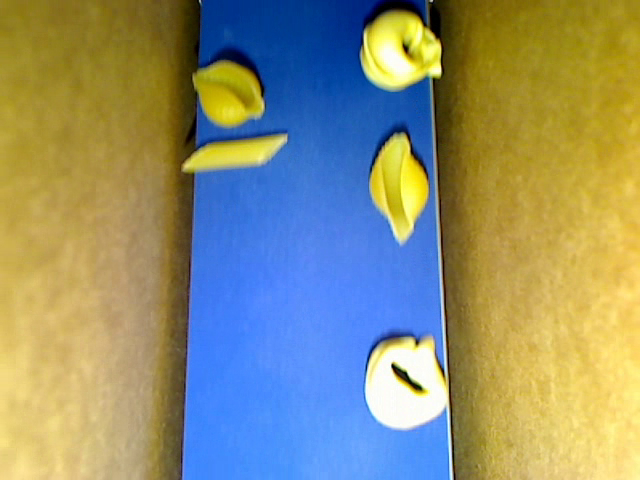penne: (180, 133, 288, 171)
shell: (370, 132, 429, 248), (193, 60, 264, 128)
tortellini: (363, 334, 449, 430), (359, 11, 442, 92)
